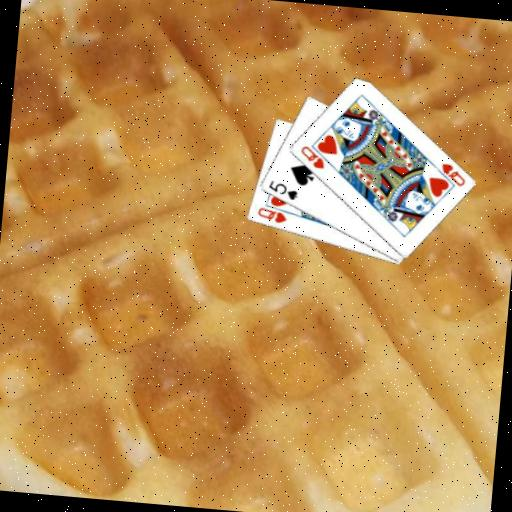5S: (264, 177, 300, 202)
QH: (429, 160, 468, 190), (296, 142, 327, 171), (254, 204, 289, 225)
